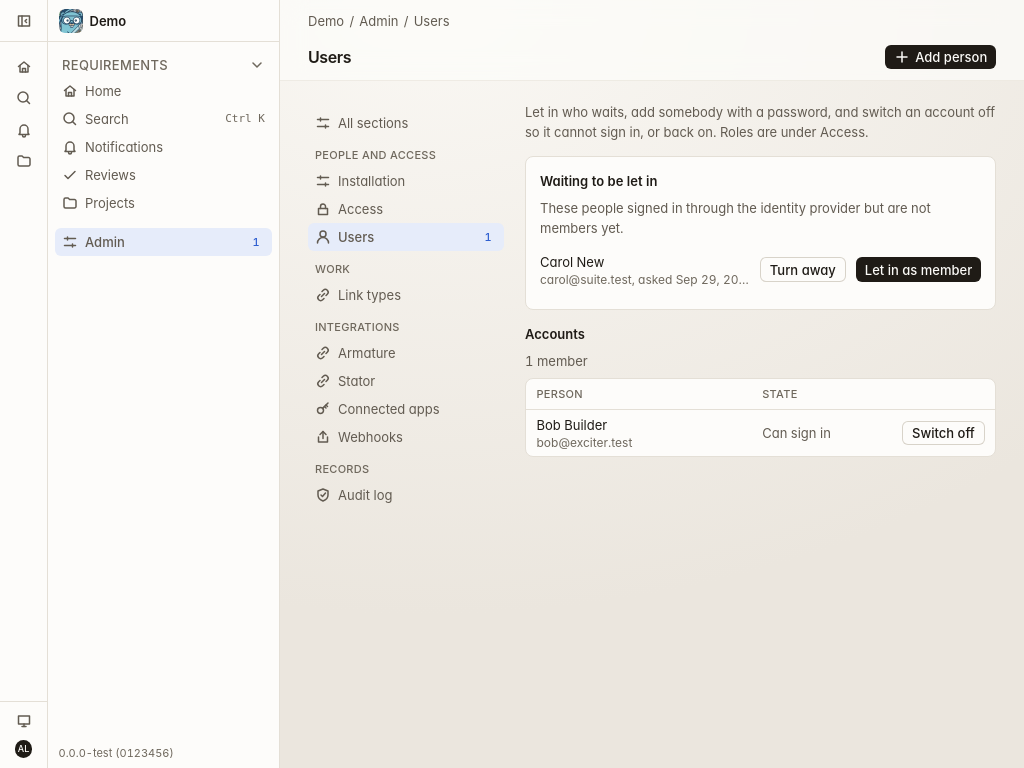
the people waiting to be let in › show a refusal as it came
Step 1. Click the button "Let in as member" → (918, 270), box [856, 257, 981, 282]
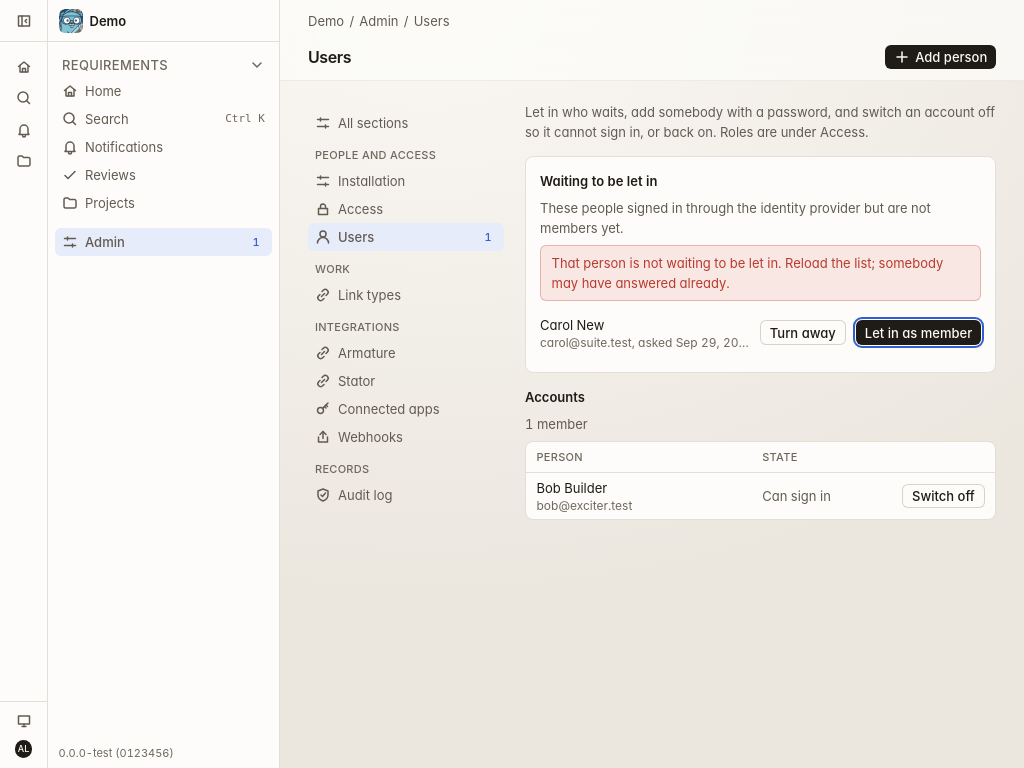
Check: the message shows "That person is not waiting to be let in.", box [552, 254, 943, 290]
